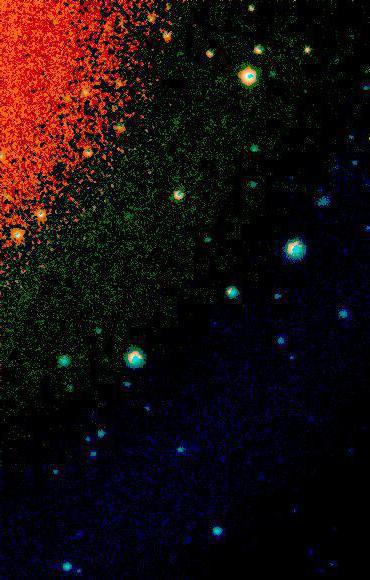star: (293, 35, 323, 65)
